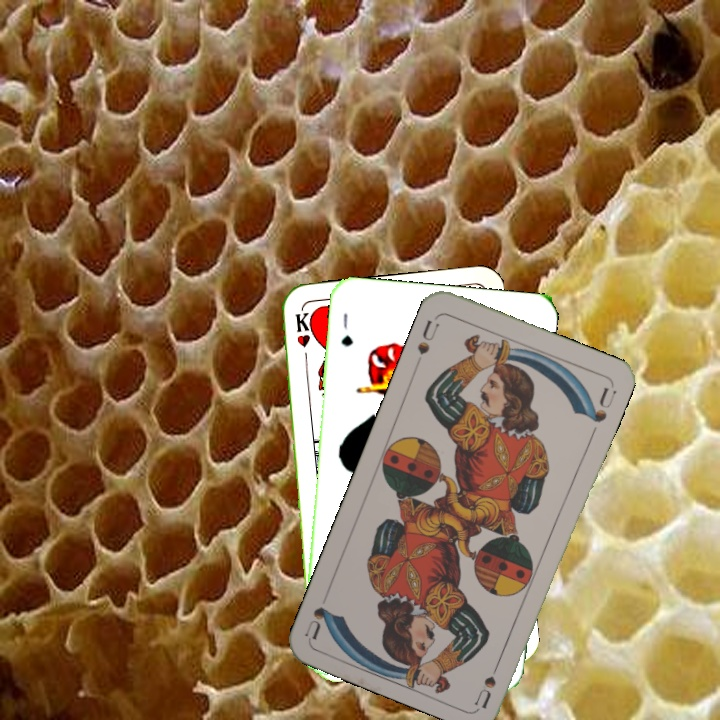GU: (337, 309, 356, 349)
HK: (291, 308, 313, 367)
SU: (471, 650, 505, 708), (413, 312, 442, 358)
